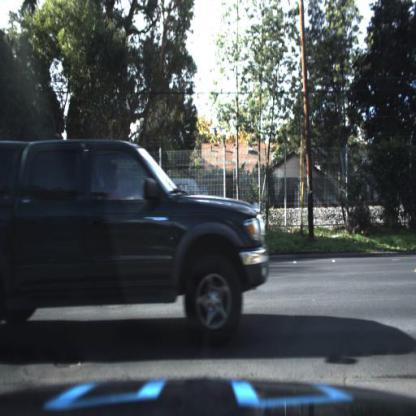car: (1, 140, 276, 351)
